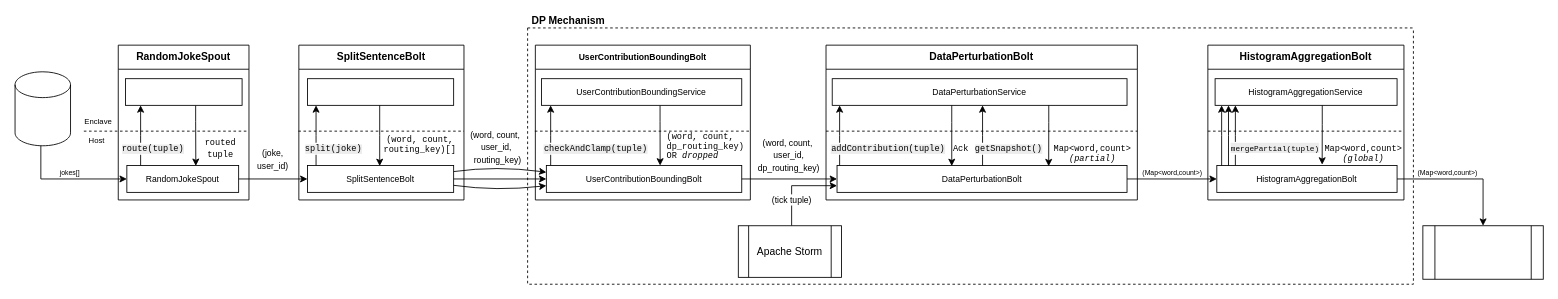
Some shapes in this 1558 by 299 pixel diagram are drawn without their labels. Each missing label, with the box of its shape:
Encrypyted Dataset: (14, 71, 71, 146)
SplitSentenceService: (307, 78, 454, 105)
SpoutPreprocessingService: (125, 78, 242, 105)
write to data/histogram.txt: (1422, 225, 1543, 279)
